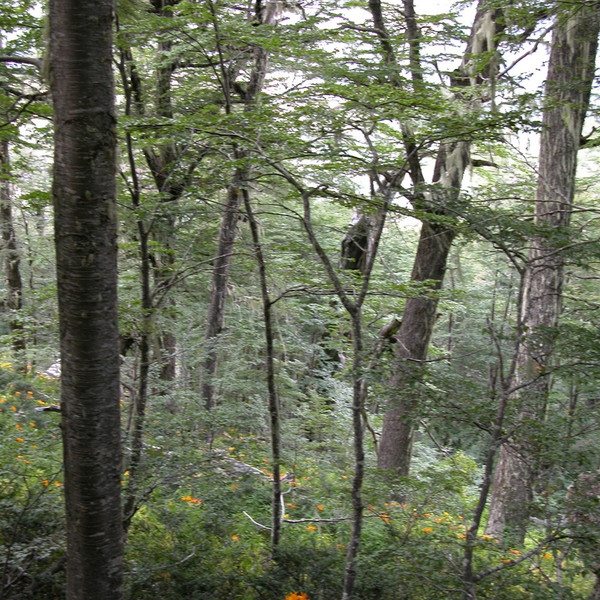obstacle: (10, 372, 499, 594)
